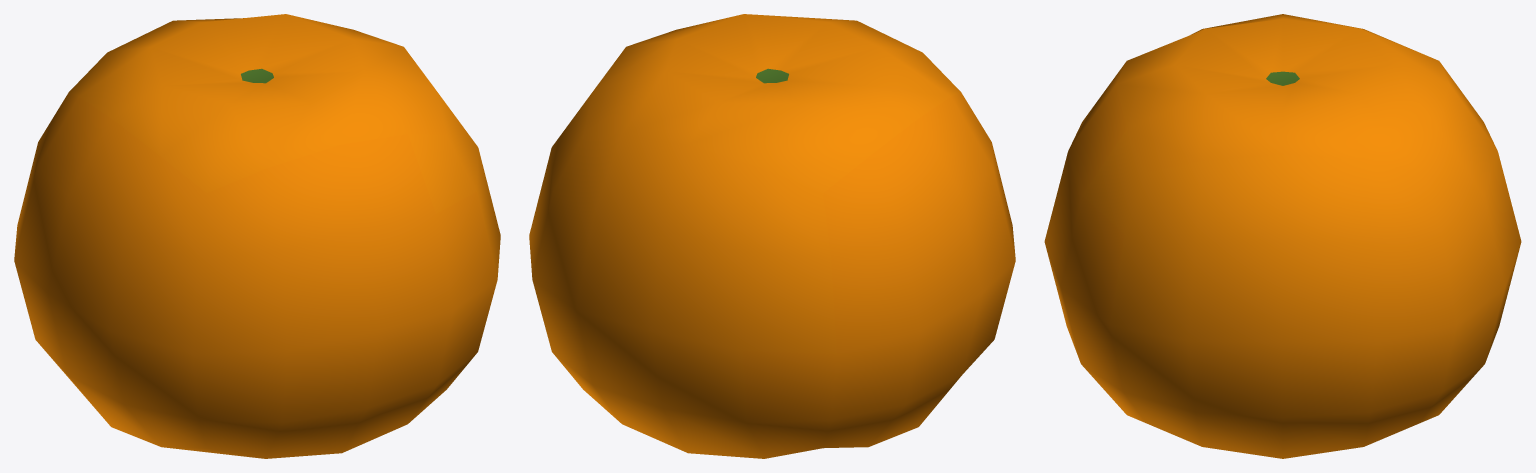
Rendered from Mandarin.glb.
3 views of the same model, side by side, from view 1: azimuth 30°, elevation 25°; view 2: azimuth 150°, elevation 25°; view 3: azimuth 270°, elevation 25° (orthographic).
Parts seen in each view (by area): view 1: Mandarin; view 2: Mandarin; view 3: Mandarin.
Boxes of the visible parts, x1,y1,x2,y2 form: Mandarin: (14, 14, 500, 458); Mandarin: (529, 14, 1015, 458); Mandarin: (1044, 14, 1521, 458).
Size of the model in its own units: 0.0839 by 0.0694 by 0.0839.
1 material, 1 textured.
